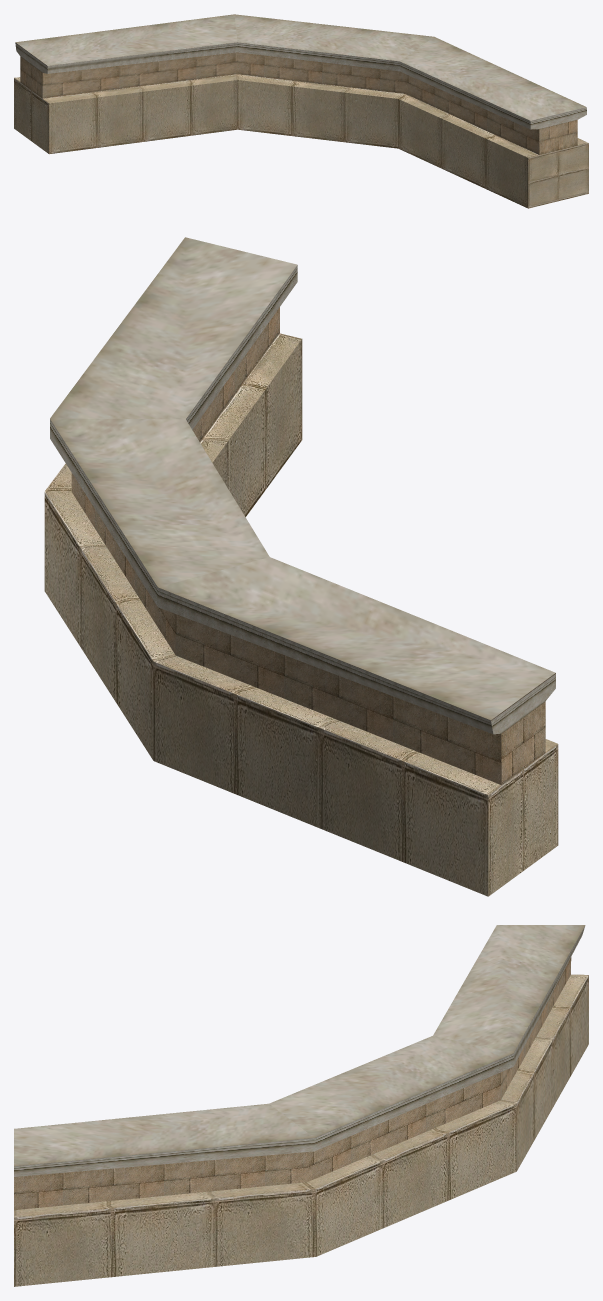
Rendered from thm_nboo_imprv_short_curved_wall_large_s01_l1.fbx.
3 views of the same model, one above another, from view 1: azimuth 30°, elevation 25°; view 2: azimuth 150°, elevation 25°; view 3: azimuth 270°, elevation 25° (orthographic). The views are drawn at different scales.
Visible parts, largest first — view 1: mesh_node; view 2: mesh_node; view 3: mesh_node.
Boxes of the visible parts, x1=… form: mesh_node: x1=14, y1=14, x2=588, y2=208; mesh_node: x1=44, y1=237, x2=558, y2=896; mesh_node: x1=14, y1=925, x2=588, y2=1286.
Bounding box in the file's own units: 8.72 × 2 × 8.73.
